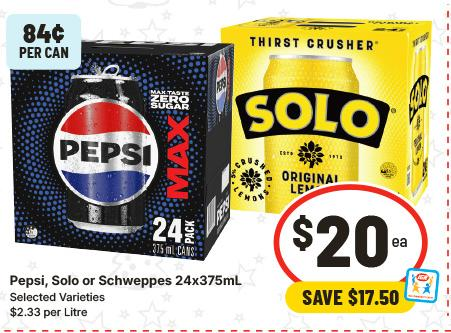description_block: (10, 267, 250, 289)
price_main: (265, 186, 423, 280)
product_image_block: (5, 11, 442, 259)
promo_text_block: (275, 274, 425, 316)
unit_price_block: (5, 303, 94, 321)
